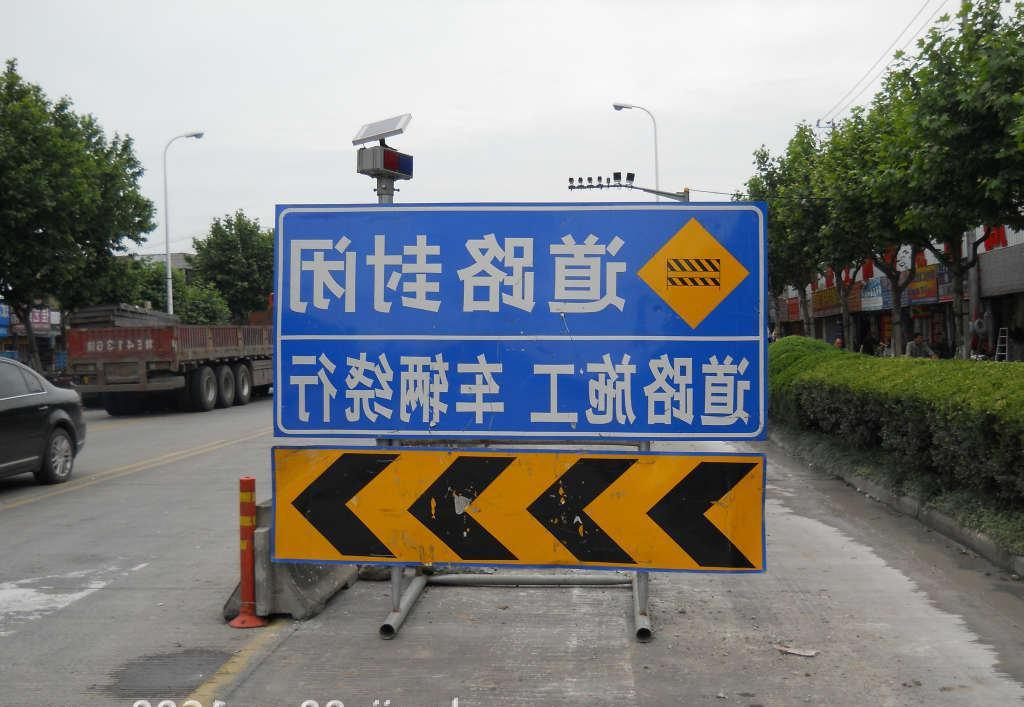sign: (272, 203, 770, 575)
